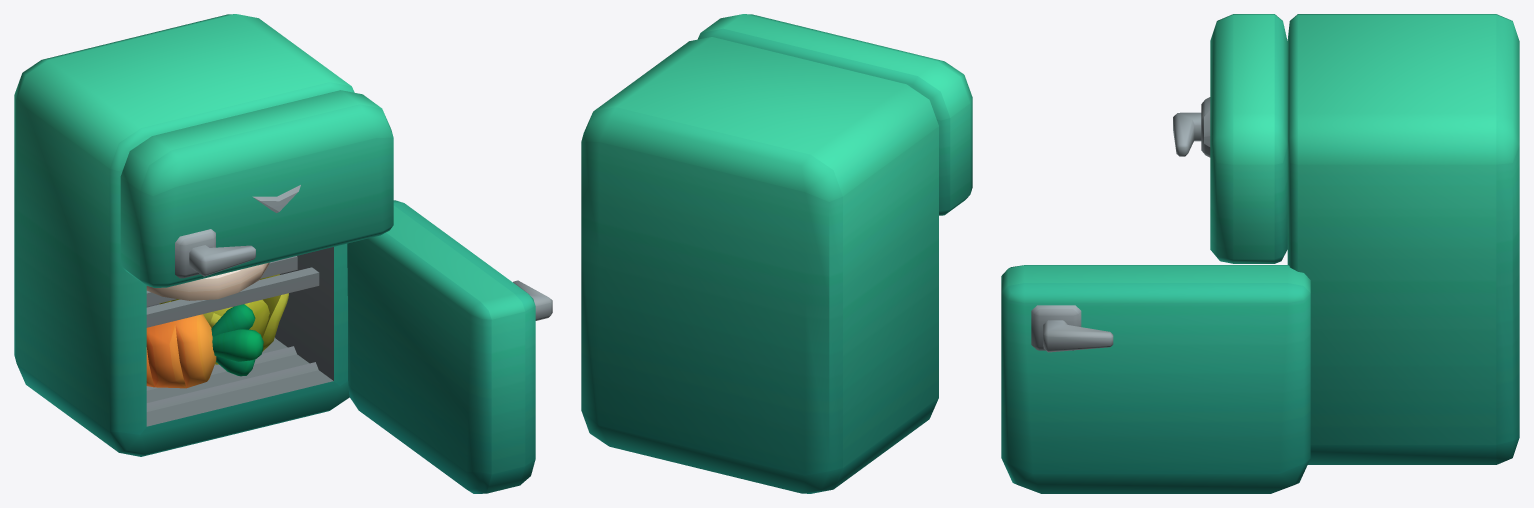
Rendered from fridge.glb.
3 renders of one model, left to right at view 1: azimuth 30°, elevation 25°; view 2: azimuth 150°, elevation 25°; view 3: azimuth 270°, elevation 25°, orthographic. The views are drawn at different scales.
Parts seen in each view (by area): view 1: fridge_A_decorated, fridge_A_decorated_door_bottom, fridge_A_decorated_door_top; view 2: fridge_A_decorated, fridge_A_decorated_door_top; view 3: fridge_A_decorated, fridge_A_decorated_door_bottom, fridge_A_decorated_door_top.
Part boxes in pixels (x1,y1,x2,y2): fridge_A_decorated: (14,14,354,456); fridge_A_decorated_door_bottom: (347,200,552,493); fridge_A_decorated_door_top: (120,90,393,287); fridge_A_decorated: (581,37,938,493); fridge_A_decorated_door_top: (697,14,972,215); fridge_A_decorated: (1287,14,1519,464); fridge_A_decorated_door_bottom: (1001,265,1310,493); fridge_A_decorated_door_top: (1173,14,1287,263).
Bounding box in the file's own units: 2.59 × 2.5 × 3.35.
1 material, 1 textured.
